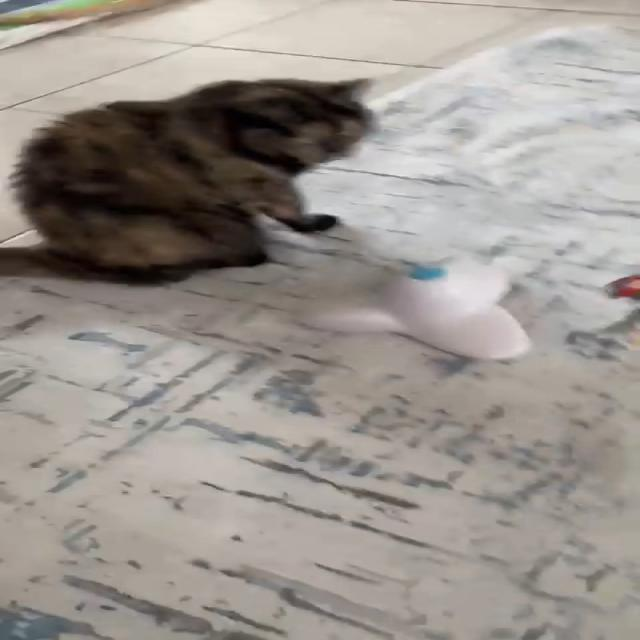authorized: (6, 75, 378, 282)
